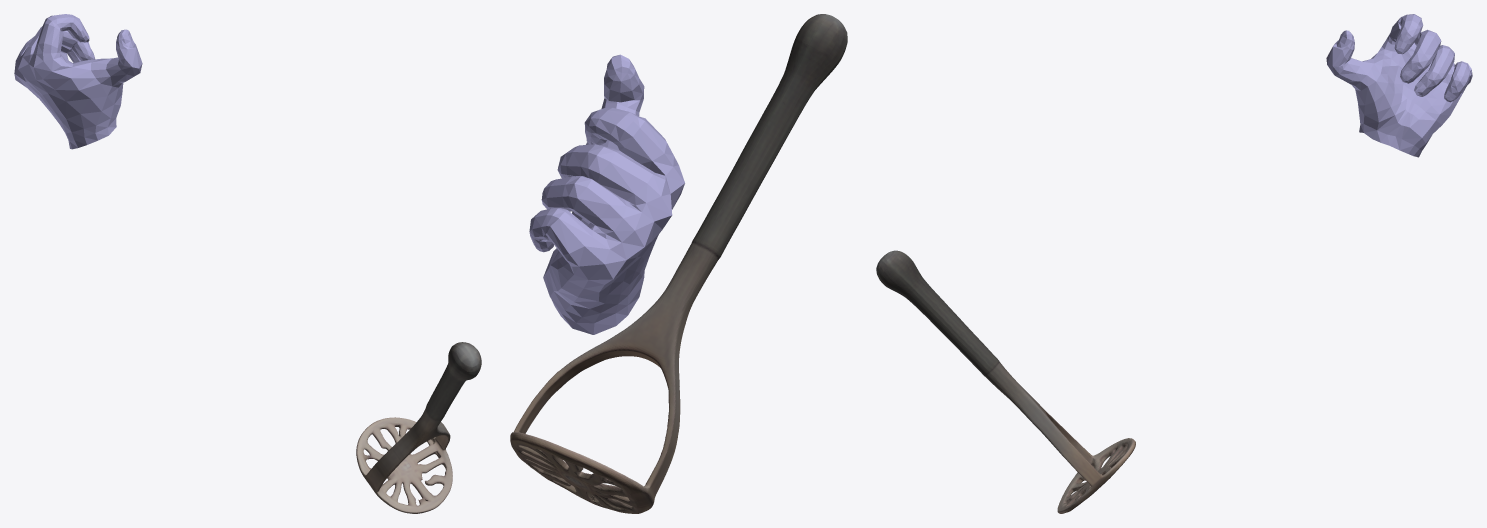
File: frame_0095_source_000095_hand_object.glb
3 renders of one model, left to right at view 1: azimuth 30°, elevation 25°; view 2: azimuth 150°, elevation 25°; view 3: azimuth 270°, elevation 25°, orthographic. The views are drawn at different scales.
Parts seen in each view (by area): view 1: world; view 2: world; view 3: world.
Boxes of the visible parts, bbox=[...] form: world: bbox=[14, 14, 481, 513]; world: bbox=[510, 14, 847, 513]; world: bbox=[876, 14, 1472, 513].
Size of the model in its own units: 0.2385 by 0.3614 by 0.4811.
